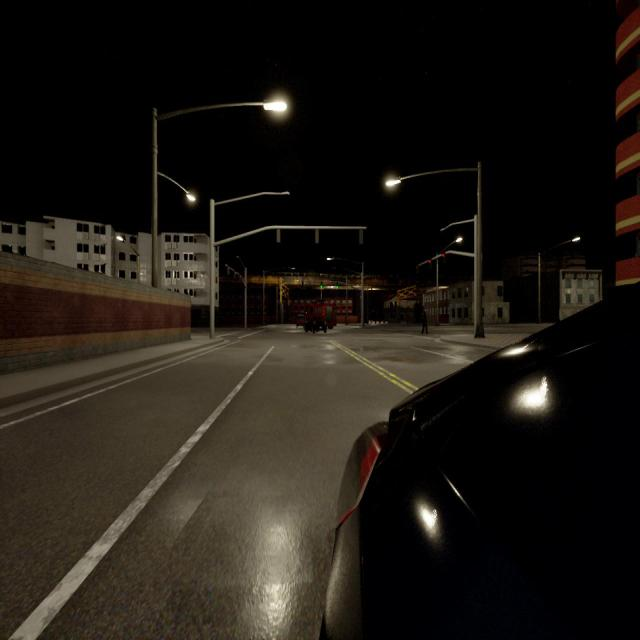Pedestrian: (422, 311, 427, 334)
Vehicle: (324, 287, 640, 638), (306, 306, 334, 328), (305, 318, 326, 333), (296, 315, 306, 327)
traffic_light: (359, 229, 363, 244), (315, 229, 319, 243), (277, 229, 280, 242), (227, 266, 230, 275), (442, 252, 445, 260), (320, 283, 323, 289), (336, 283, 339, 289), (429, 260, 431, 266), (240, 274, 242, 279), (235, 272, 237, 276)
